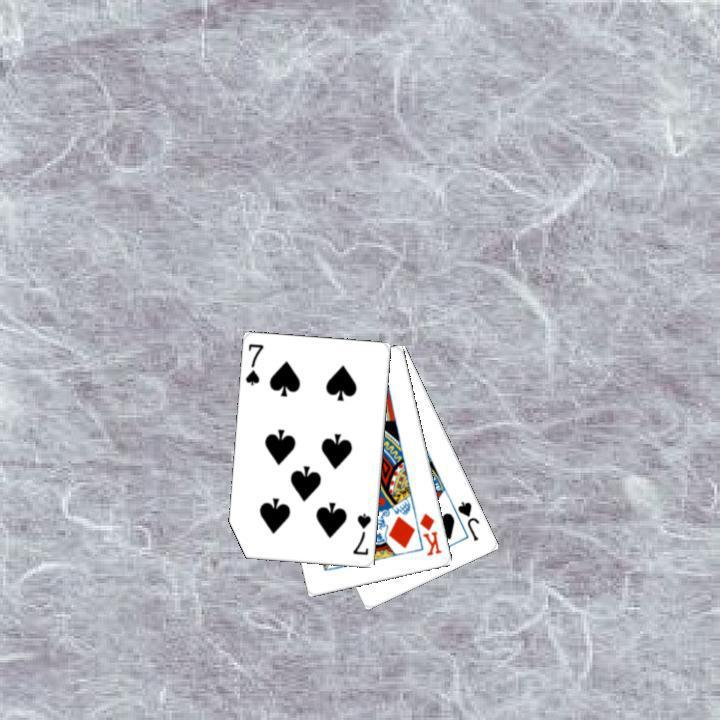7: (349, 509, 373, 558), (242, 340, 266, 388)
J: (453, 497, 482, 543)
K: (416, 509, 444, 558)
